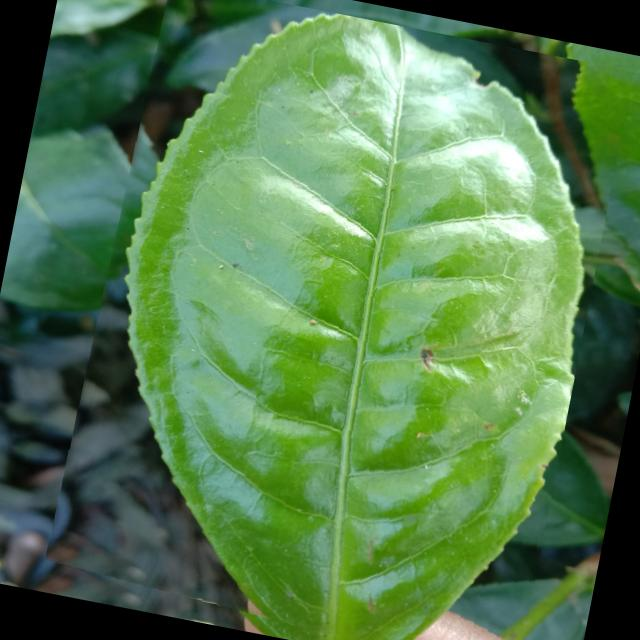Category B(2-4 days): (38, 0, 633, 640)
